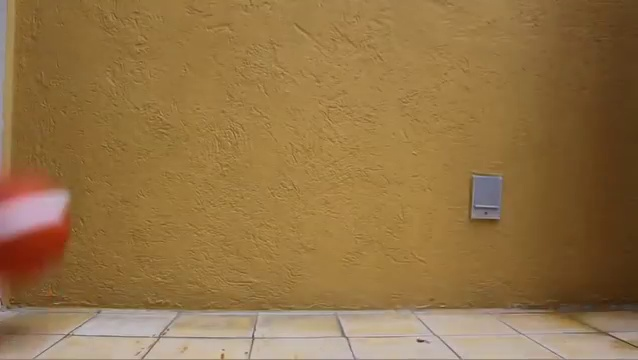ball: (1, 168, 77, 291)
